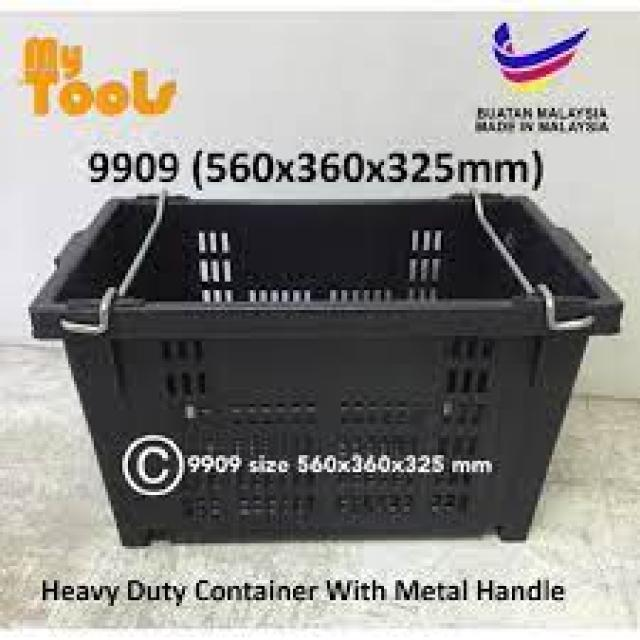basket: (29, 193, 627, 549)
